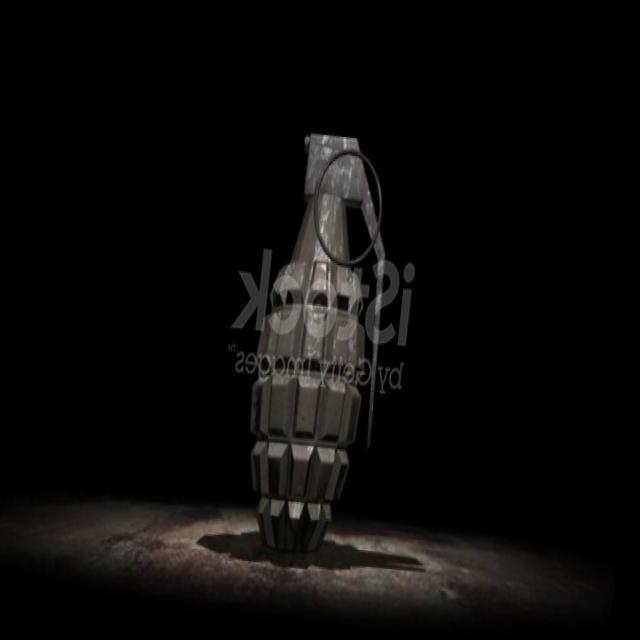grenade: (231, 128, 402, 550)
